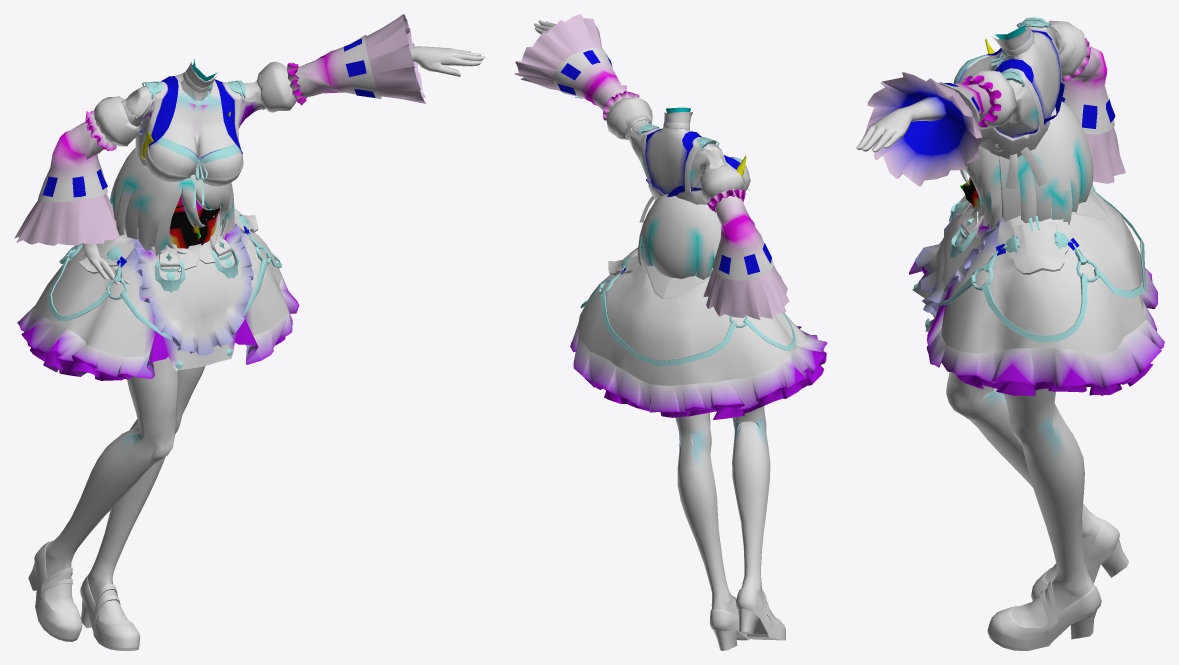
The model's file is other.glb.
3 views of the same model, side by side, from view 1: azimuth 30°, elevation 25°; view 2: azimuth 150°, elevation 25°; view 3: azimuth 270°, elevation 25° (orthographic). The views are drawn at different scales.
Visible parts, largest first — view 1: other_body, other_hair, other_face; view 2: other_body, other_hair; view 3: other_body, other_hair.
Boxes of the visible parts, x1,y1,x2,y2 form: other_body: (14,14,485,650); other_hair: (110,111,234,256); other_face: (169,195,219,248); other_body: (514,14,827,650); other_hair: (637,155,746,279); other_body: (856,17,1164,650); other_hair: (959,38,1093,233).
Bounding box in the file's own units: 0.9387 × 1.42 × 0.5646.
